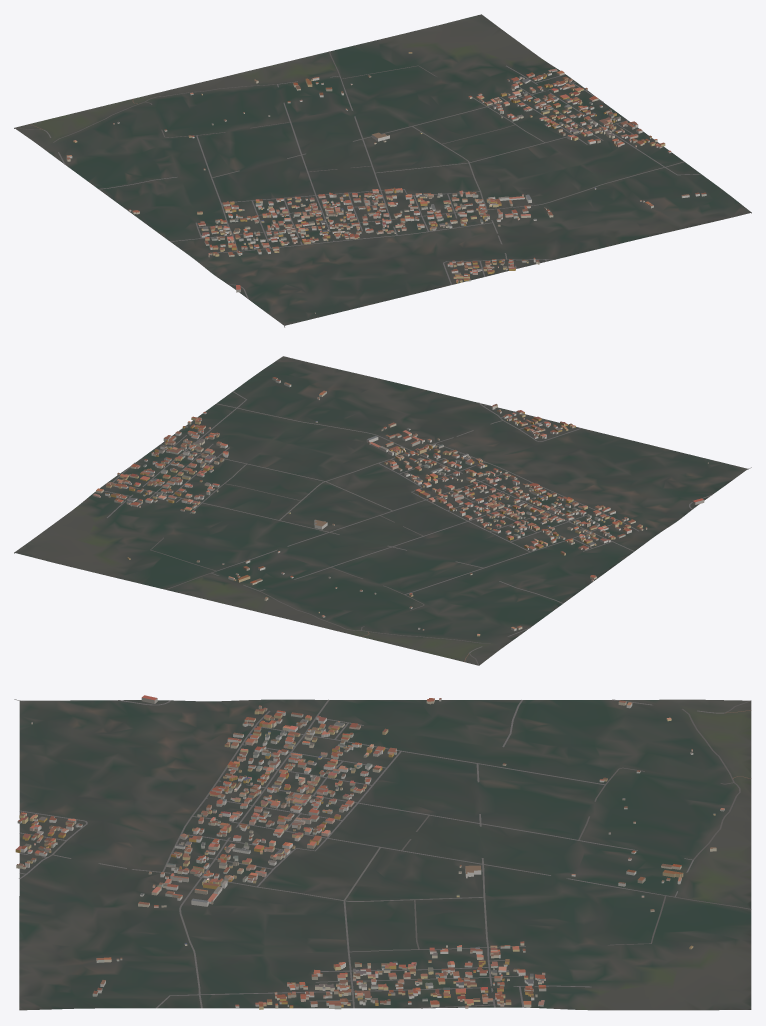
3 views of the same model, one above another, from view 1: azimuth 30°, elevation 25°; view 2: azimuth 150°, elevation 25°; view 3: azimuth 270°, elevation 25° (orthographic). The views are drawn at different scales.
Parts seen in each view (by area): view 1: ground, buildings, roads; view 2: ground, buildings, roads; view 3: ground, buildings, roads.
Boxes of the visible parts, bbox=[...] form: ground: bbox=[14, 14, 751, 325]; buildings: bbox=[66, 52, 706, 313]; roads: bbox=[14, 51, 700, 327]; ground: bbox=[14, 356, 748, 665]; buildings: bbox=[92, 377, 708, 636]; roads: bbox=[104, 391, 751, 665]; ground: bbox=[19, 699, 751, 1010]; buildings: bbox=[15, 695, 724, 1009]; roads: bbox=[14, 699, 751, 1008].
Bounding box in the file's own units: 1411 × 19.17 × 1414.
